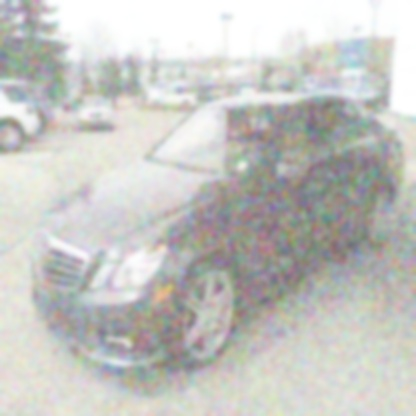Vehicle: (28, 93, 402, 375)
